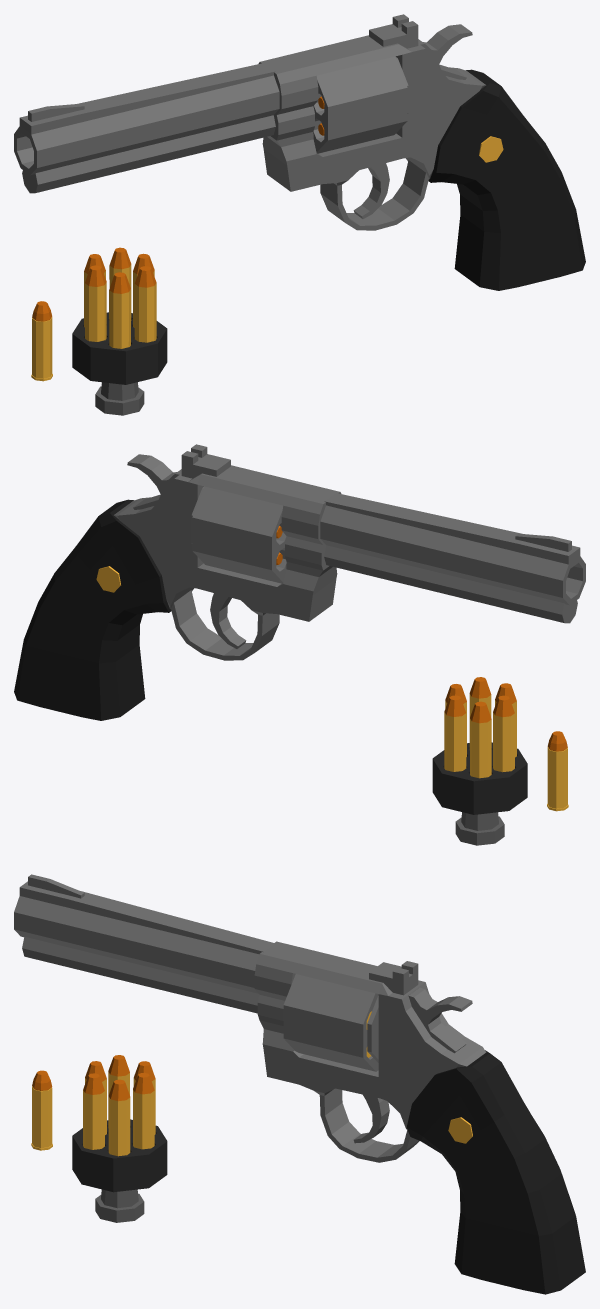
File: Colt Python.fbx
The picture shows the model from 3 angles, top to bottom: view 1: azimuth 30°, elevation 25°; view 2: azimuth 150°, elevation 25°; view 3: azimuth 330°, elevation 25°; orthographic projection.
Parts seen in each view (by area): view 1: Colt Python, SpeedLoader, Bullet; view 2: Colt Python, SpeedLoader, Bullet; view 3: Colt Python, SpeedLoader, Bullet.
Part boxes in pixels (x1=…): Colt Python: x1=14, y1=14, x2=585, y2=290; SpeedLoader: x1=72, y1=247, x2=167, y2=415; Bullet: x1=31, y1=301, x2=52, y2=381; Colt Python: x1=14, y1=444, x2=585, y2=720; SpeedLoader: x1=432, y1=677, x2=527, y2=845; Bullet: x1=547, y1=731, x2=568, y2=811; Colt Python: x1=14, y1=874, x2=585, y2=1294; SpeedLoader: x1=72, y1=1055, x2=167, y2=1222; Bullet: x1=31, y1=1070, x2=52, y2=1150.
Size of the model in its own units: 747 by 410 by 105.
1 material, 1 textured.
